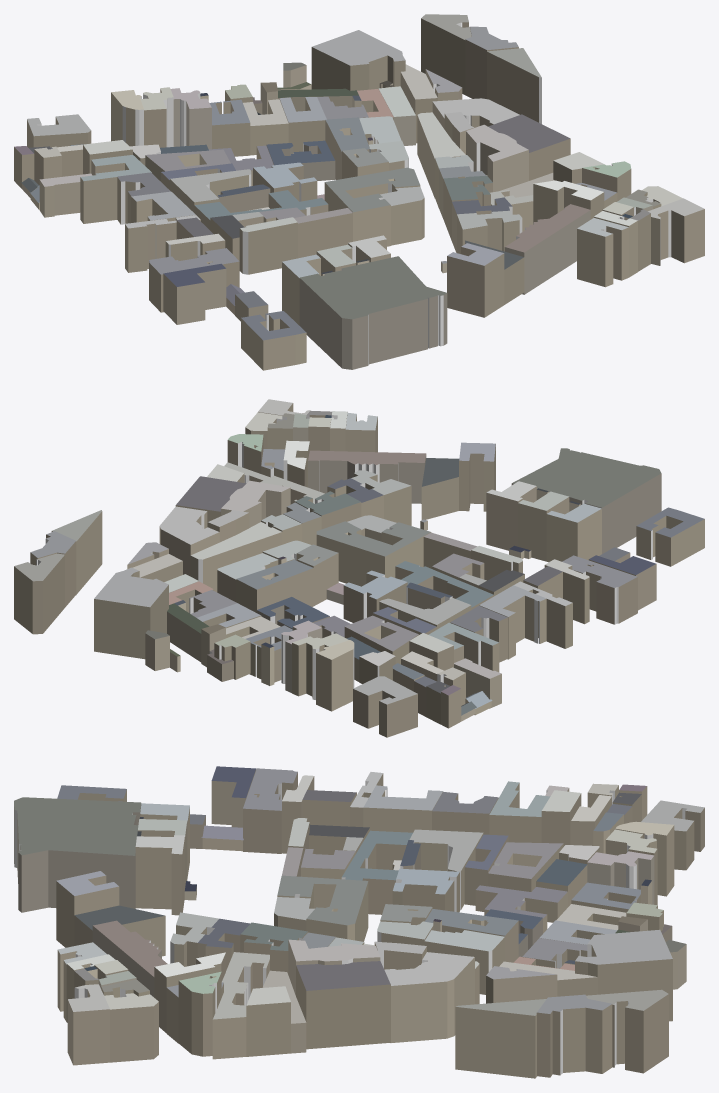
3 renders of one model, top to bottom at view 1: azimuth 30°, elevation 25°; view 2: azimuth 150°, elevation 25°; view 3: azimuth 270°, elevation 25°, orthographic. The views are drawn at different scales.
Visible parts, largest first — view 1: tuile; view 2: tuile; view 3: tuile.
Part boxes in pixels (left/top/right/bottom): tuile: left=14, top=14, right=704, bottom=370; tuile: left=14, top=399, right=704, bottom=737; tuile: left=14, top=766, right=704, bottom=1078.
Bounding box in the file's own units: 265 × 31.33 × 287.
